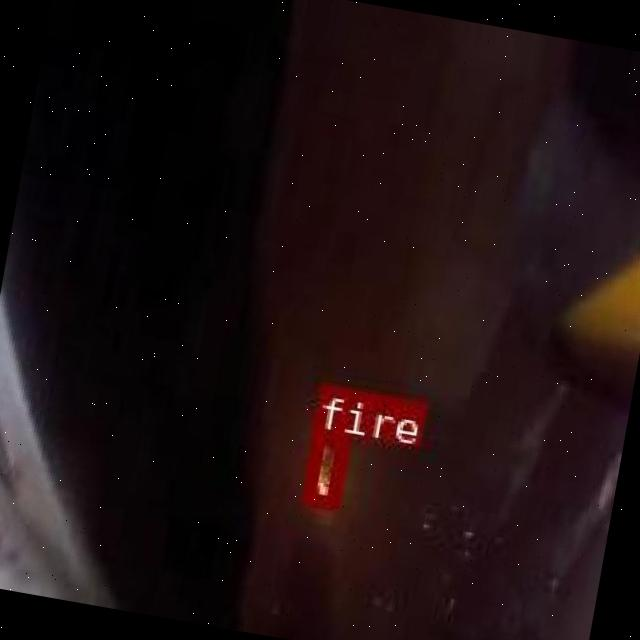fire: (298, 426, 348, 506)
